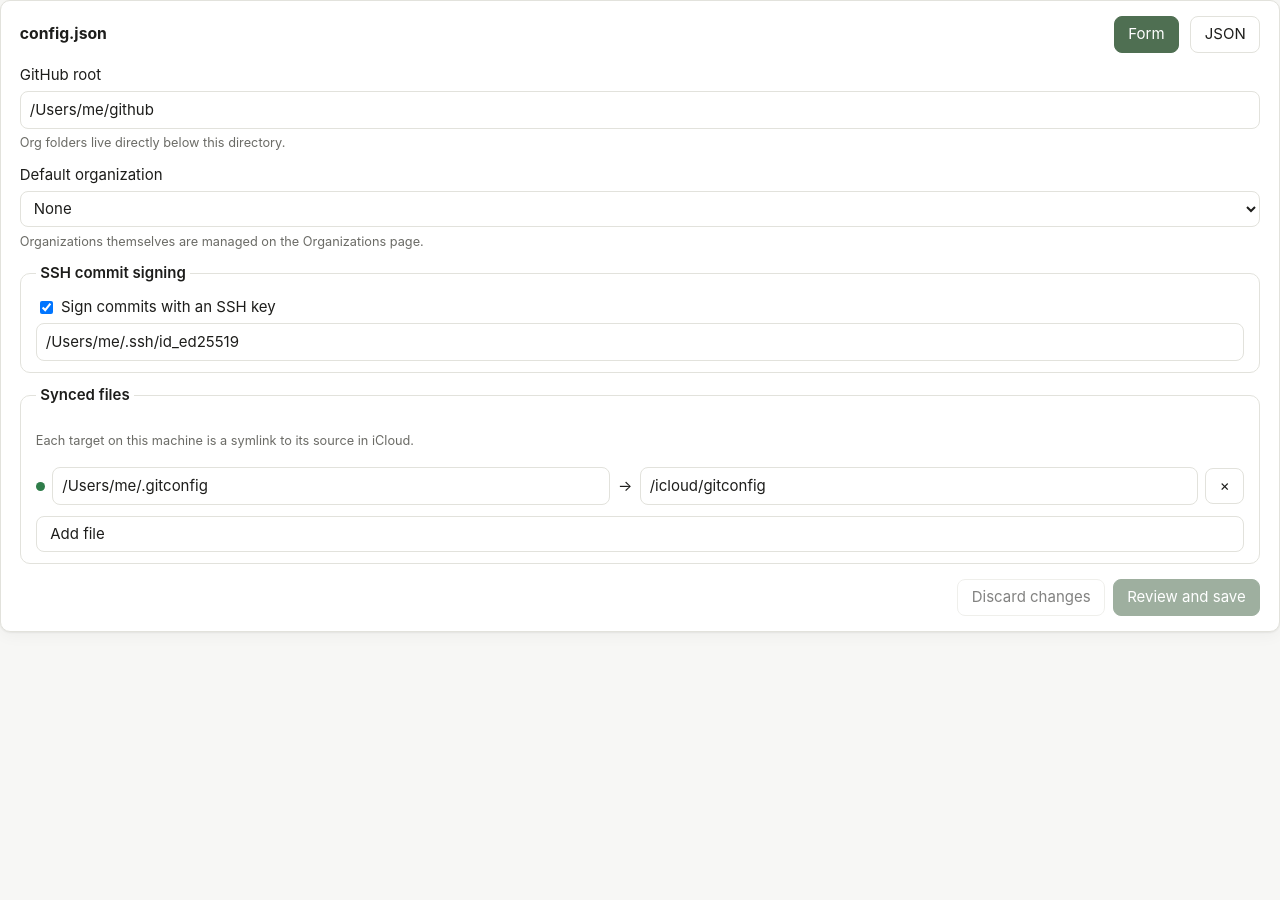
Test: config editor › edits in the form, shows the diff, and saves with the version it loaded
Expected: the button "Review and save" is disabled, left=1113, top=579, right=1260, bottom=616
Replace the text in the field labelled "GitHub root Org folders live directly below this directory." with "/Users/me/code" at (640, 110), box left=20, top=91, right=1260, bottom=129
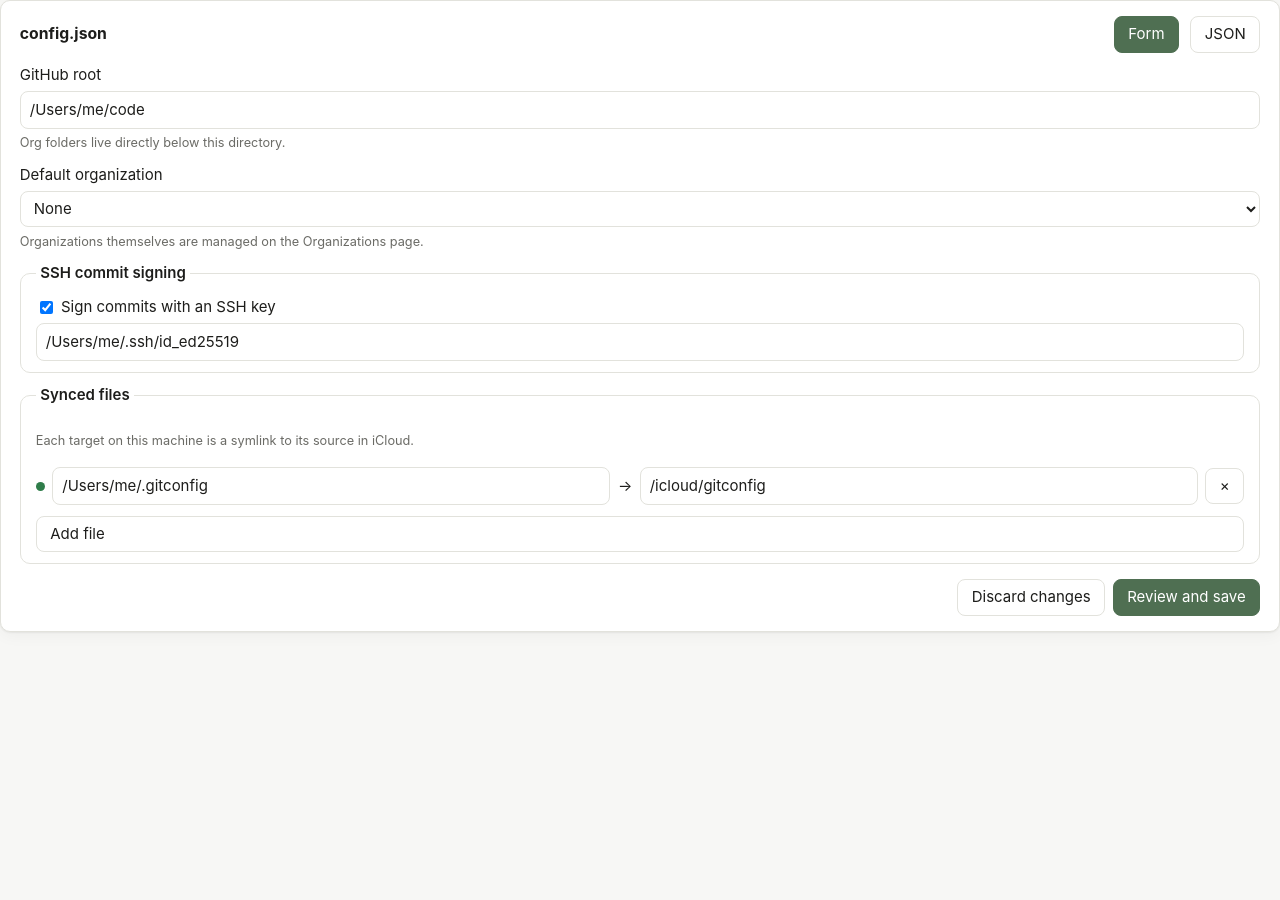
Click the button "Review and save".
click(1186, 598)  # box left=1113, top=579, right=1260, bottom=616
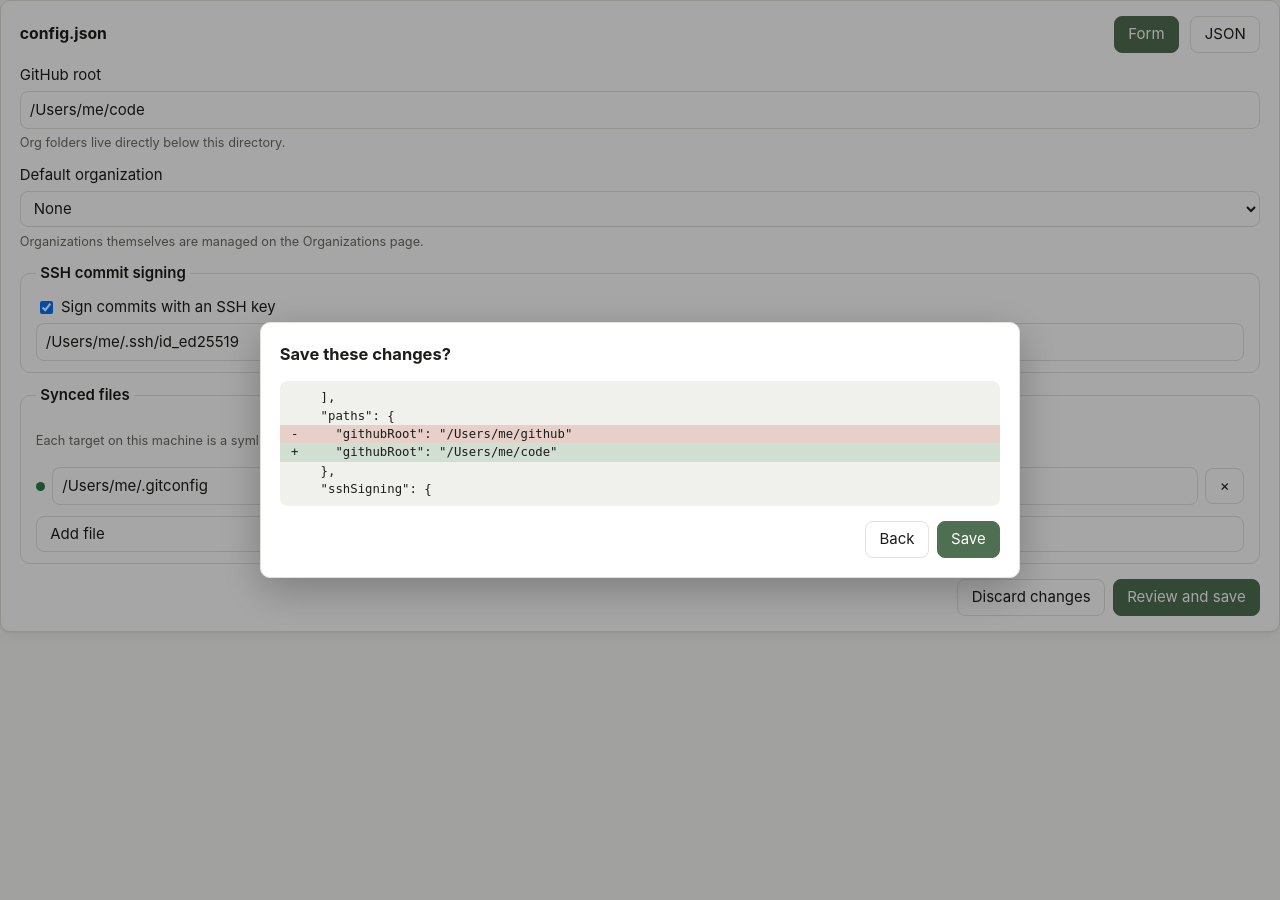
Expected: the dialog shows "-", left=291, top=427, right=306, bottom=441
Expected: the dialog shows "\"githubRoot\": \"/Users/me/code\"", left=306, top=446, right=558, bottom=460
Click the button "Save".
click(968, 540)  # box left=936, top=521, right=1000, bottom=558
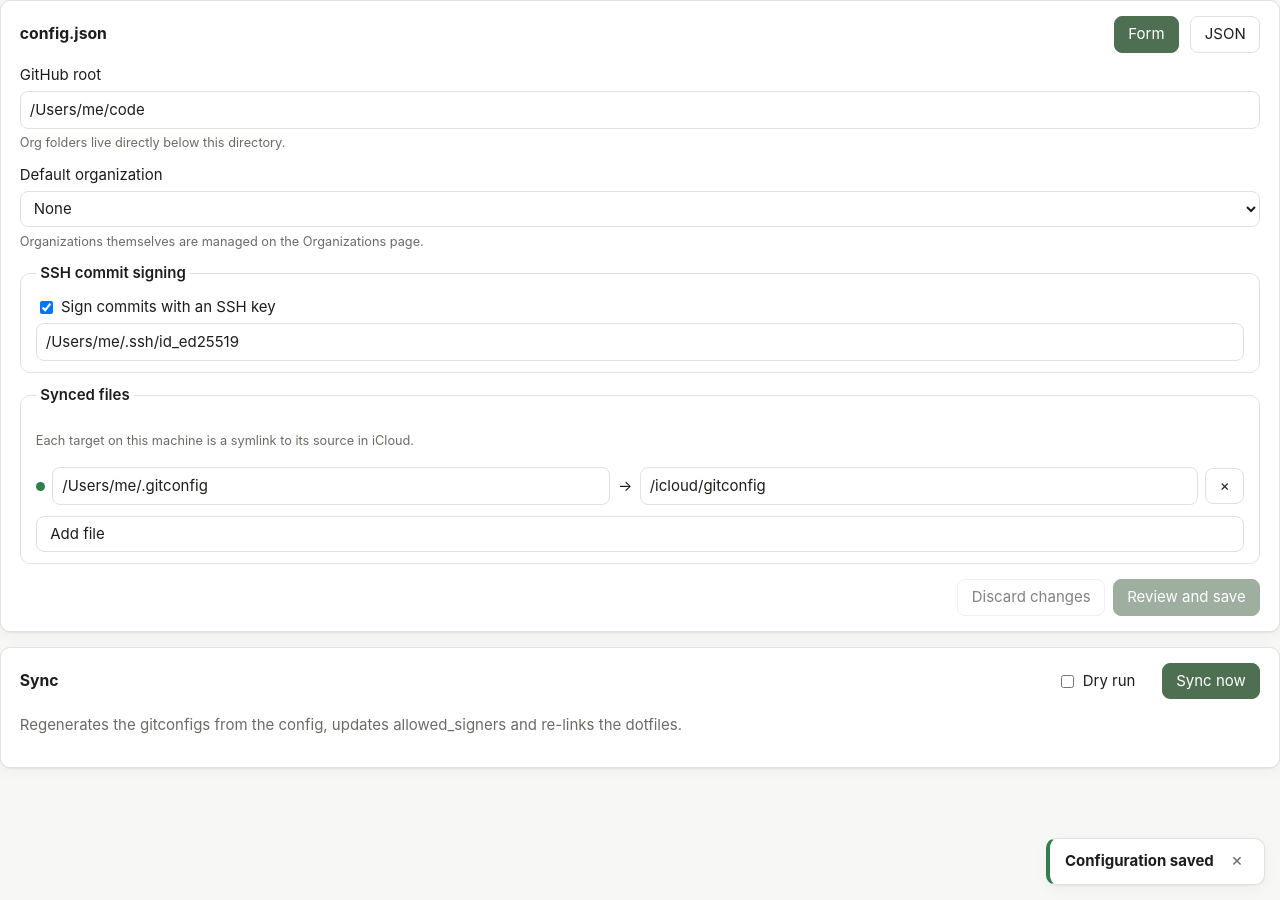
Expected: the button "Sync now" is shown, left=1162, top=663, right=1260, bottom=699
